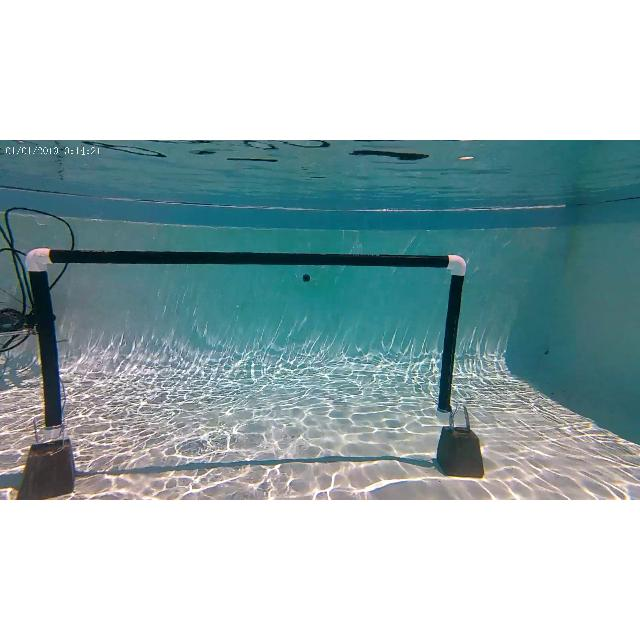prequal gate: (26, 248, 467, 437)
prequal gate leg l: (24, 244, 66, 438)
prequal gate leg r: (432, 252, 466, 424)
